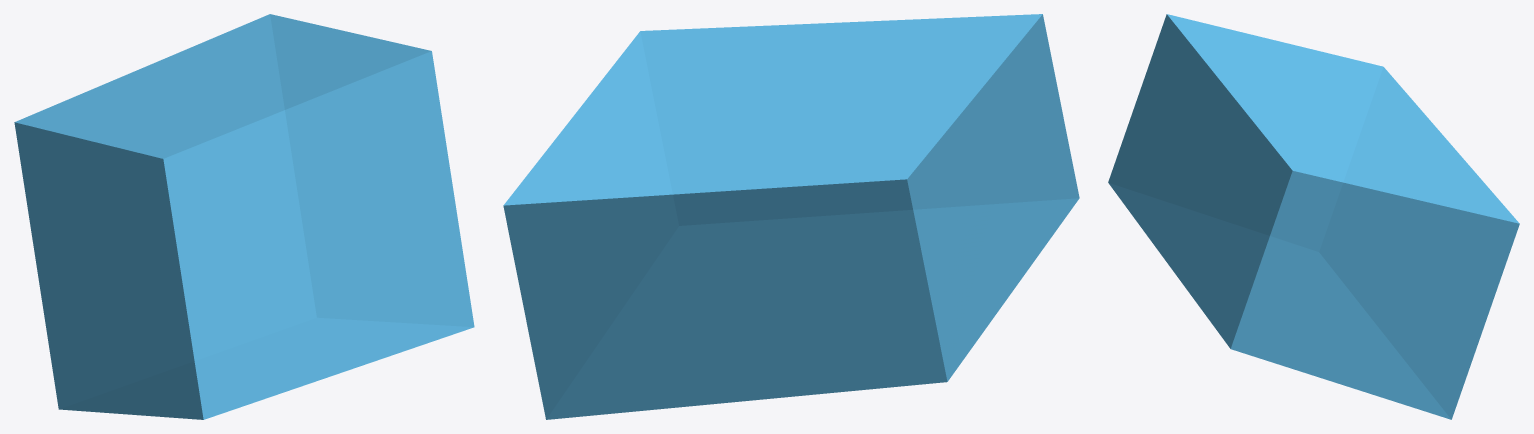
The model's file is Event_421278790_HErechit_30.fbx.
3 views of the same model, side by side, from view 1: azimuth 30°, elevation 25°; view 2: azimuth 150°, elevation 25°; view 3: azimuth 270°, elevation 25° (orthographic). The views are drawn at different scales.
Visible parts, largest first — view 1: Model; view 2: Model; view 3: Model.
Boxes of the visible parts, box(x1,y1,x2,y2) form: Model: box(14, 14, 474, 419); Model: box(503, 14, 1079, 419); Model: box(1108, 14, 1519, 419).
Bounding box in the file's own units: 0.6333 × 0.6599 × 0.8737.
